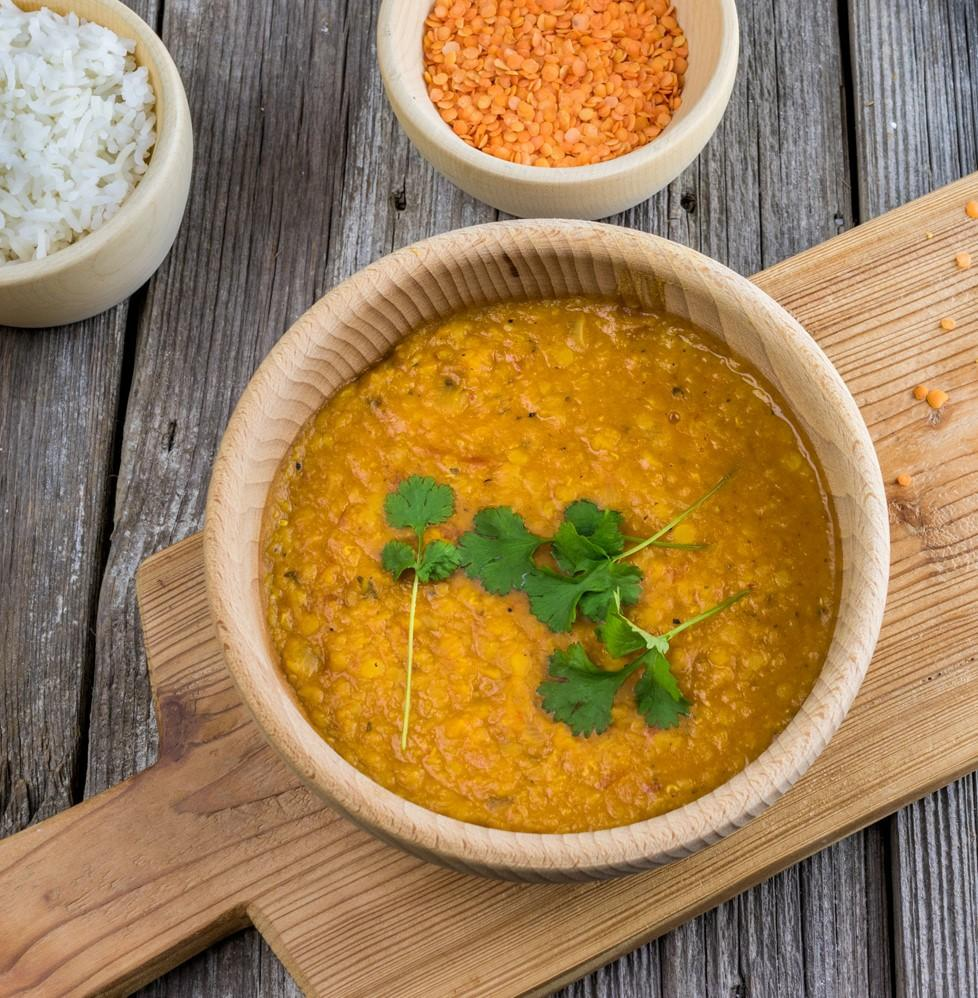Dal: (261, 296, 841, 833)
WhiteRice: (0, 0, 158, 259)
